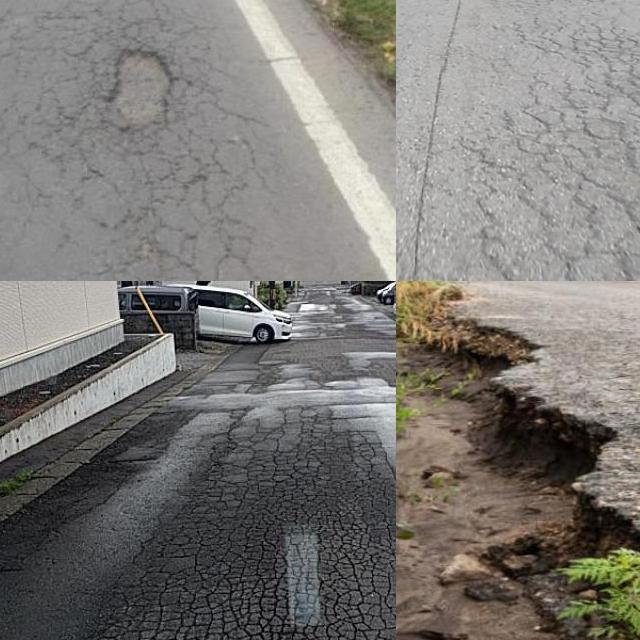Lubang: (105, 50, 173, 132)
Pinggir: (406, 310, 640, 640)
Retak Buaya: (94, 420, 396, 640), (471, 0, 640, 281)
